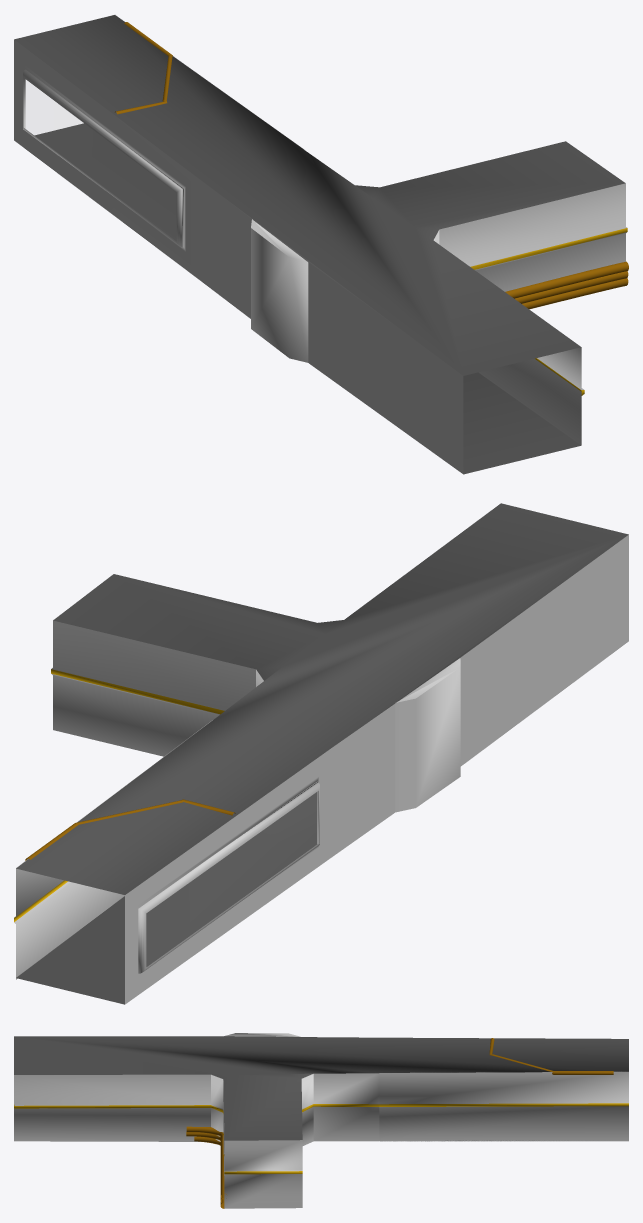
The model's file is SpaceShip15.glb.
3 renders of one model, top to bottom at view 1: azimuth 30°, elevation 25°; view 2: azimuth 150°, elevation 25°; view 3: azimuth 270°, elevation 25°, orthographic. The views are drawn at different scales.
Parts seen in each view (by area): view 1: SHIP; view 2: SHIP; view 3: SHIP.
Part boxes in pixels (<box>): SHIP: <box>14,15,628,474</box>; SHIP: <box>14,503,628,1004</box>; SHIP: <box>14,1033,628,1208</box>.
Size of the model in its own units: 7.4 by 2.24 by 17.78.
